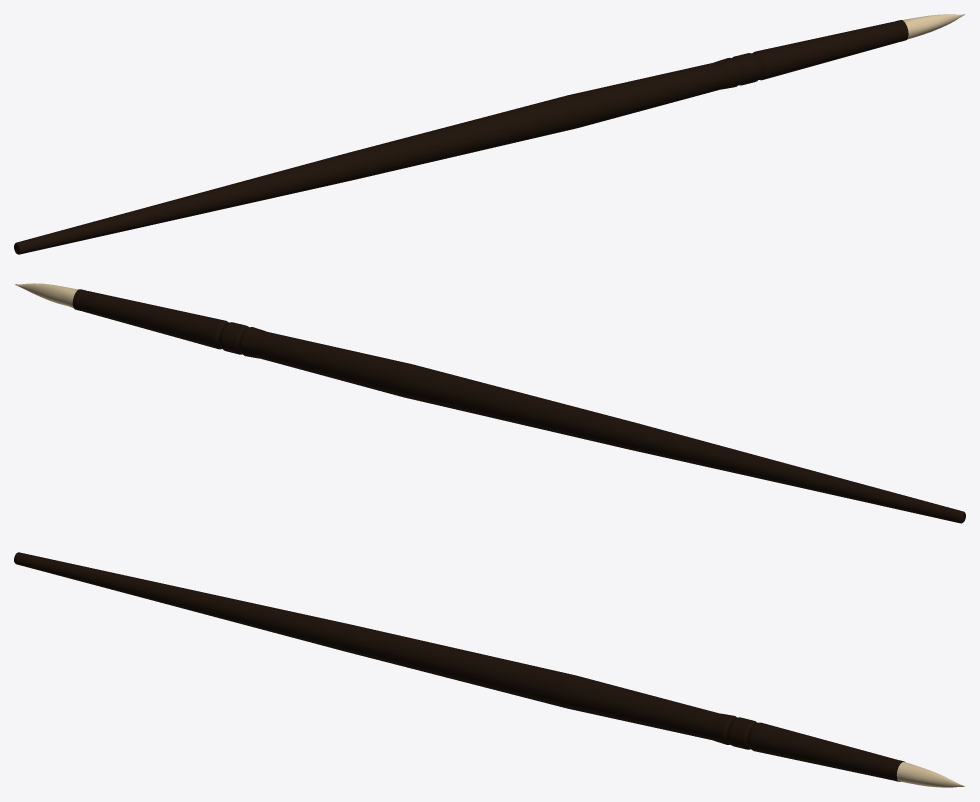
The model's file is Paintbrush.dae.
3 renders of one model, top to bottom at view 1: azimuth 30°, elevation 25°; view 2: azimuth 150°, elevation 25°; view 3: azimuth 330°, elevation 25°, orthographic.
Parts seen in each view (by area): view 1: PaintBrush2_pencil1; view 2: PaintBrush2_pencil1; view 3: PaintBrush2_pencil1.
Part boxes in pixels (x1,y1,x2,y2): PaintBrush2_pencil1: [14, 14, 965, 254]; PaintBrush2_pencil1: [15, 283, 965, 523]; PaintBrush2_pencil1: [14, 552, 964, 787].
Size of the model in its own units: 186 by 5.88 by 5.81.
